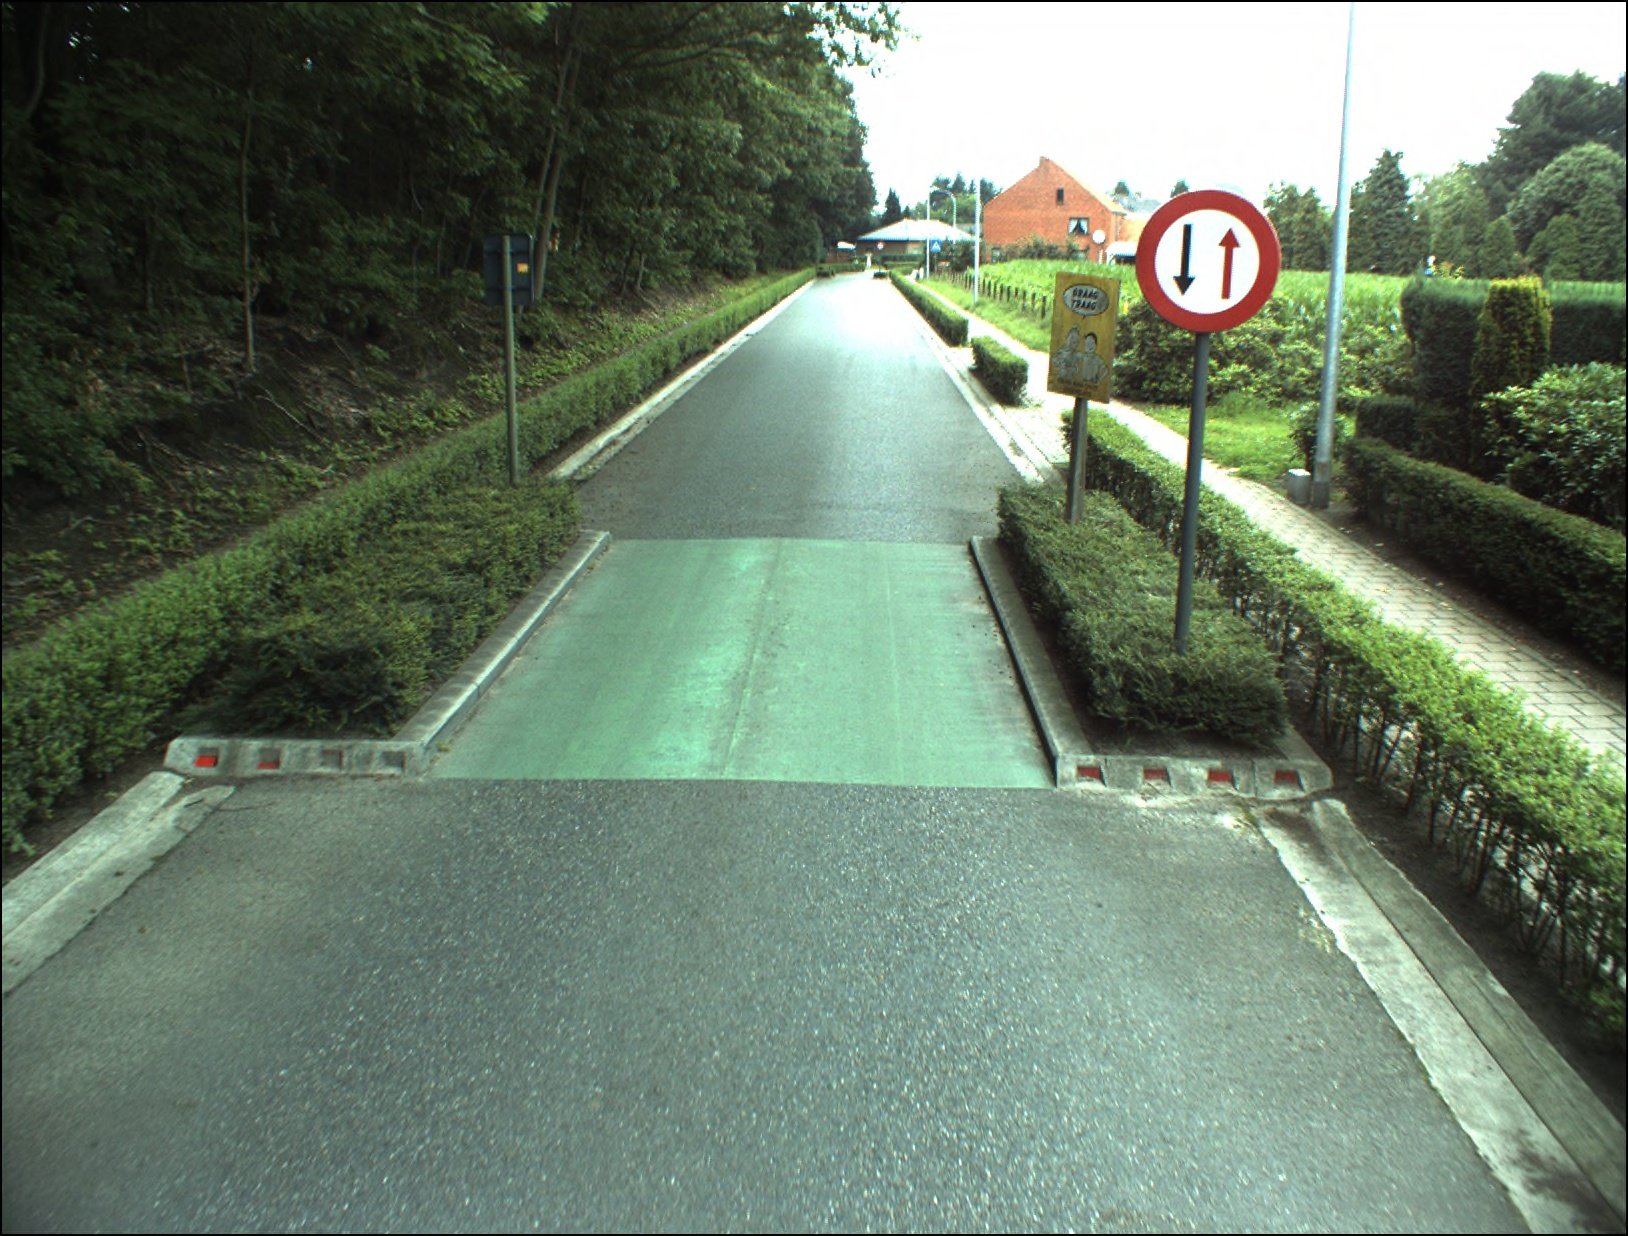roadnarrow2: (1136, 190, 1281, 331)
